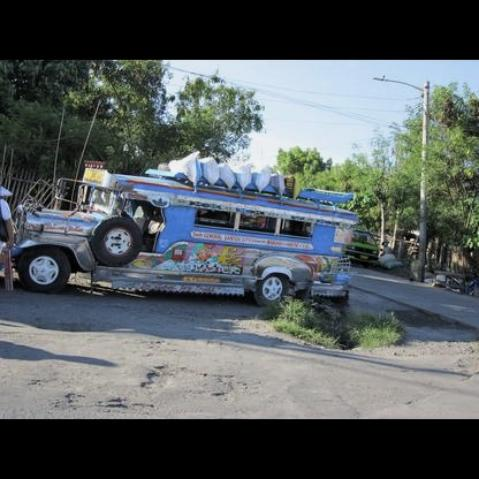jeepney: (2, 151, 372, 333)
